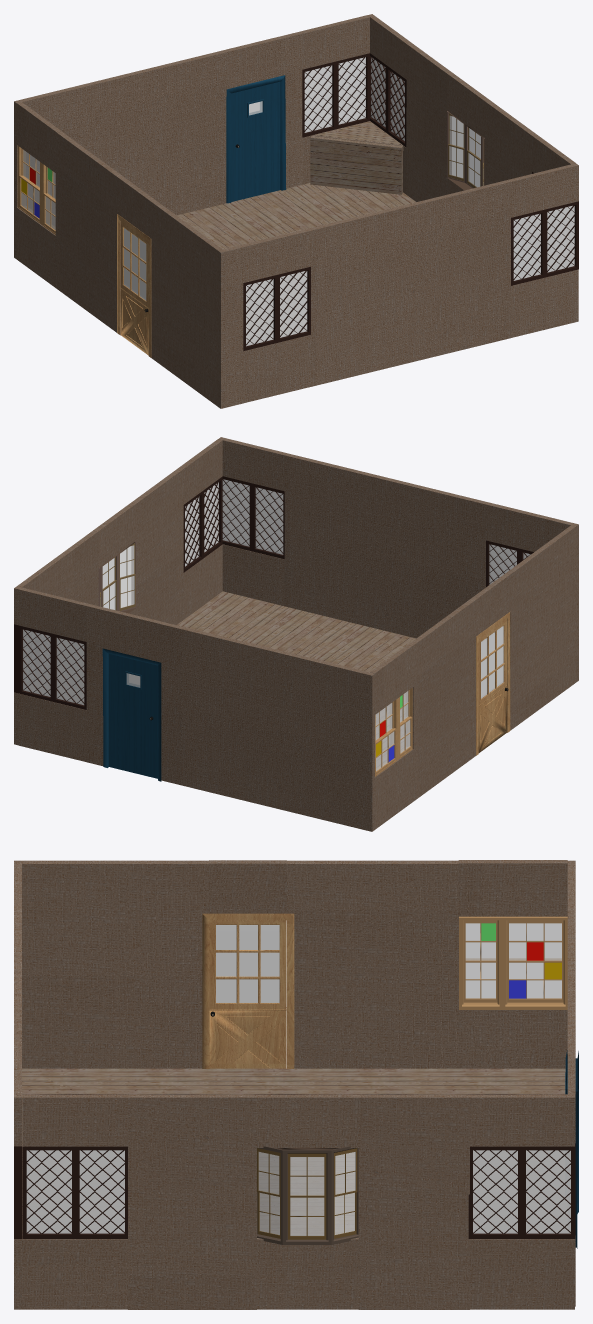
3 renders of one model, top to bottom at view 1: azimuth 30°, elevation 25°; view 2: azimuth 150°, elevation 25°; view 3: azimuth 270°, elevation 25°, orthographic. The views are drawn at different scales.
Visible parts, largest first — view 1: wall21, wall6, wall1, wall3, floor, wall13, door2, shelf1, wall20, wall23, wall16, wall24 (+34 smaller); view 2: wall6, wall21, wall1, wall3, floor, wall16, door2, wall10, wall20, wall8, wall9, wall22 (+30 smaller); view 3: wall1, wall3, wall16, wall13, floor, window, window3, wall18, wall12, Rectangle011, wall15, wall5 (+21 smaller).
Boxes of the visible parts, x1,y1,x2,y2 form: wall21: [309, 180, 510, 386]; wall6: [14, 49, 229, 259]; wall1: [149, 199, 225, 408]; wall3: [55, 131, 124, 335]; floor: [177, 183, 415, 249]; wall13: [406, 43, 451, 201]; door2: [231, 81, 280, 201]; shelf1: [310, 135, 402, 194]; wall20: [510, 269, 578, 337]; wall23: [243, 335, 310, 403]; wall16: [484, 100, 535, 185]; wall24: [223, 245, 243, 407]; wall6: [158, 622, 374, 831]; wall21: [284, 453, 487, 638]; wall1: [502, 523, 578, 730]; wall3: [411, 597, 478, 799]; floor: [177, 591, 415, 767]; wall16: [132, 468, 183, 624]; door2: [108, 654, 157, 778]; wall10: [19, 693, 86, 761]; wall20: [222, 544, 284, 606]; wall8: [86, 604, 109, 765]; wall9: [19, 587, 89, 641]; wall22: [485, 502, 555, 551]; wall1: [14, 860, 208, 1068]; wall3: [287, 860, 462, 1068]; wall16: [128, 1094, 256, 1309]; wall13: [358, 1094, 469, 1309]; floor: [22, 1068, 565, 1235]; window: [459, 916, 567, 1009]; window3: [257, 1146, 358, 1244]; wall18: [22, 1236, 127, 1309]; wall12: [470, 1239, 574, 1309]; Rectangle011: [209, 920, 286, 1010]; wall15: [251, 1237, 360, 1309]; wall5: [459, 1010, 567, 1068].
Bounding box in the file's own units: 737 × 301 × 725.
